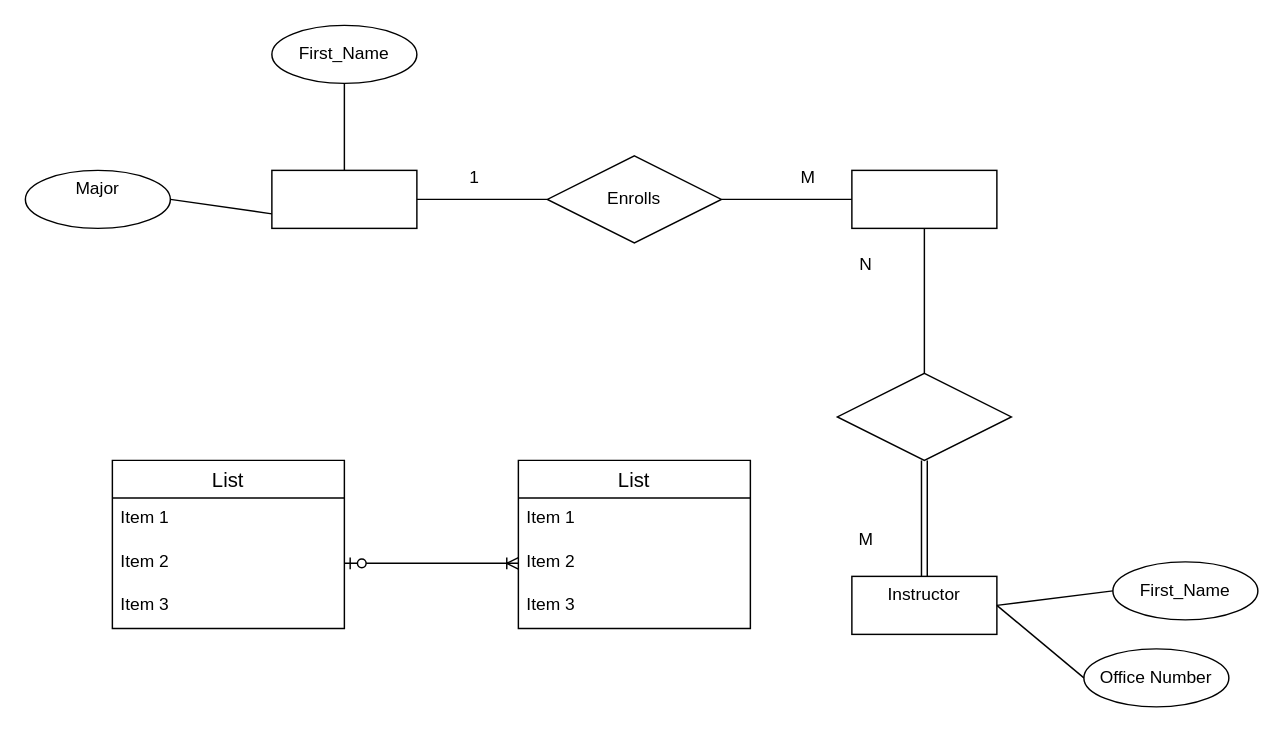
Image size: 1283x732. Some labels were removed from this diagram. Each missing label, with the box of its shape:
Courses: (850, 169, 997, 228)
Student: (270, 169, 417, 228)
Teaches: (836, 372, 1011, 460)
